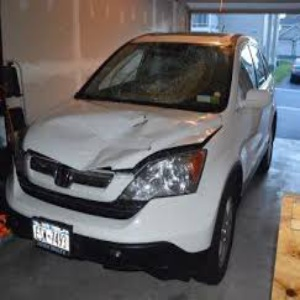bonnet: (61, 104, 211, 165)
